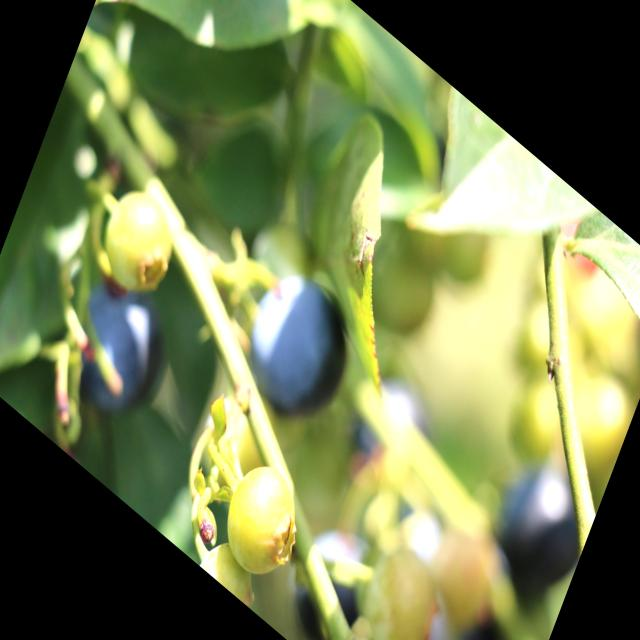blueberry: (232, 250, 366, 450), (54, 263, 188, 450), (477, 434, 598, 625)
blueberry-unripe: (214, 448, 310, 594), (93, 172, 186, 308), (197, 525, 267, 611)
